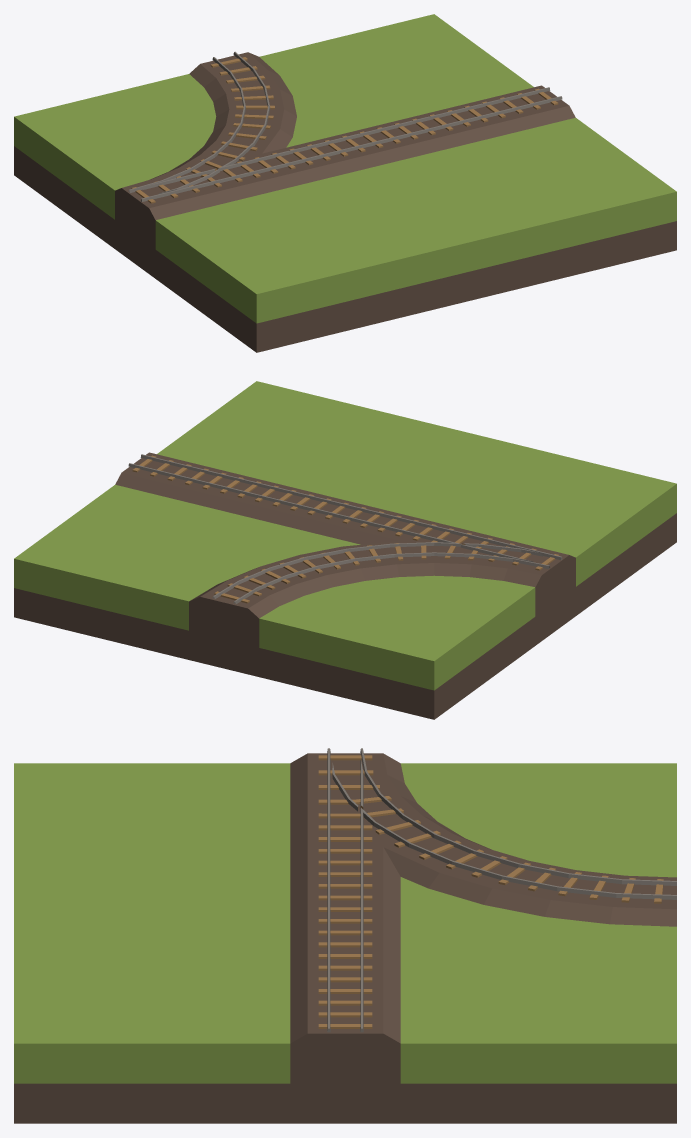
File: rail-tile-y_01.fbx
3 renders of one model, top to bottom at view 1: azimuth 30°, elevation 25°; view 2: azimuth 150°, elevation 25°; view 3: azimuth 270°, elevation 25°, orthographic. The views are drawn at different scales.
Visible parts, largest first — view 1: rail-tile_y_01; view 2: rail-tile_y_01; view 3: rail-tile_y_01.
Boxes of the visible parts, x1,y1,x2,y2 form: rail-tile_y_01: (14,14,676,352); rail-tile_y_01: (14,381,676,719); rail-tile_y_01: (14,748,676,1123).
Bounding box in the file's own units: 3001 × 475 × 3000.
